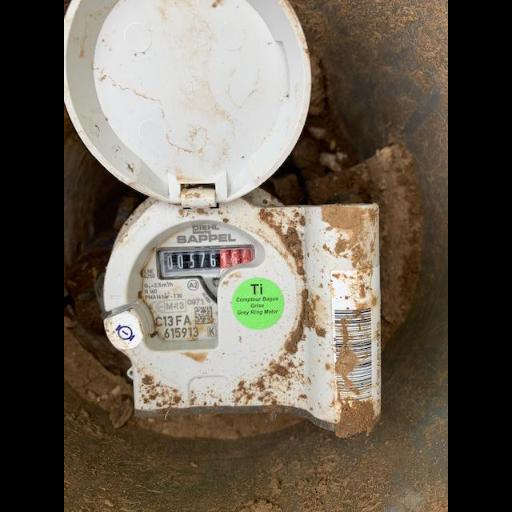0: (176, 251, 186, 272), (165, 252, 175, 272)
1: (220, 250, 229, 269)
5: (187, 251, 197, 272)
6: (208, 249, 218, 270), (230, 249, 240, 267)
7: (197, 250, 207, 270), (241, 250, 251, 263)
border_water_meter_number: (155, 244, 255, 281)
